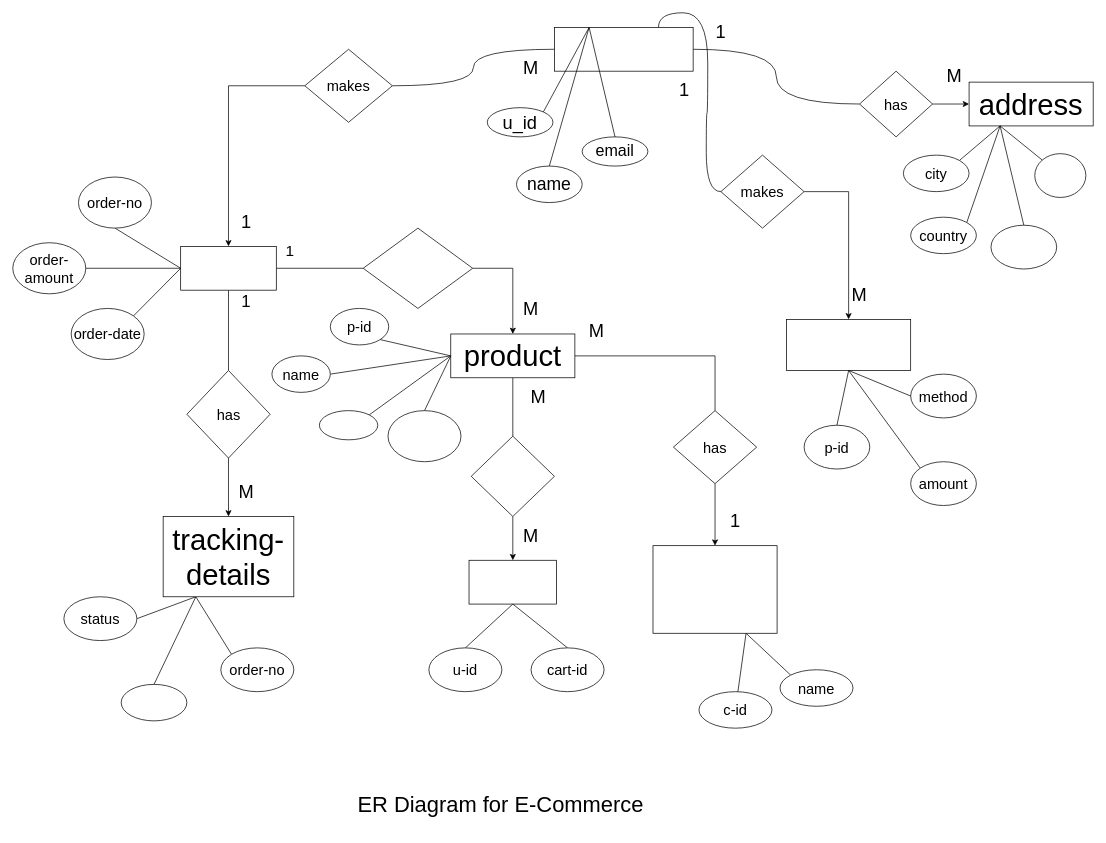
Image size: 1106x843. Some labels were removed from this diagram. The box of each missing label's shape, as (x1, y1, x2, y2) in pixels:
a-id: (1034, 153, 1086, 197)
added to: (470, 435, 554, 516)
cart: (468, 560, 557, 604)
contains: (362, 227, 473, 308)
description: (387, 410, 461, 462)
order: (180, 246, 276, 290)
payment: (786, 319, 911, 370)
price: (319, 410, 378, 440)
product- category: (652, 545, 777, 633)
state: (990, 224, 1057, 269)
t-id: (120, 684, 187, 721)
User: (554, 27, 693, 71)
